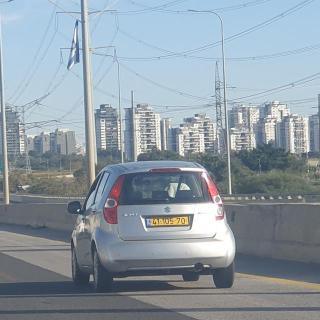LicensePlate: (150, 217, 188, 226)
